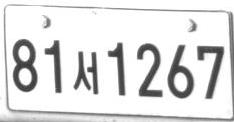1: (41, 39, 68, 93), (106, 42, 133, 95)
2: (136, 43, 162, 97)
6: (166, 44, 194, 99)
7: (196, 45, 225, 100)
8: (12, 38, 37, 92)
서: (72, 51, 98, 94)
